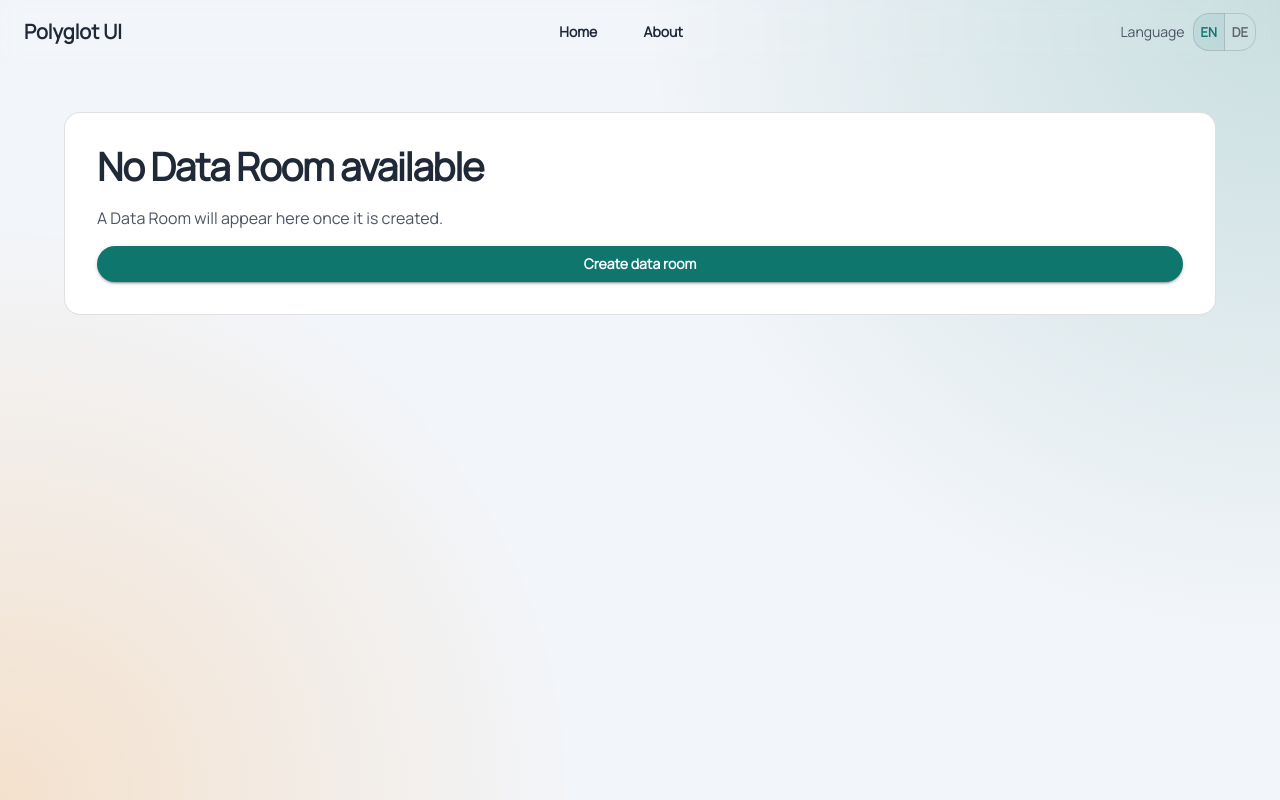
App routing and localization › creates the first data room from an empty persisted state
The width and height of the screenshot is (1280, 800).
Check: the heading "No Data Room available" is shown, box [97,140,483,193]
Check: the list "Data Rooms" is not shown
Click the button "Create data room" at (640, 264), box [97,246,1183,282]
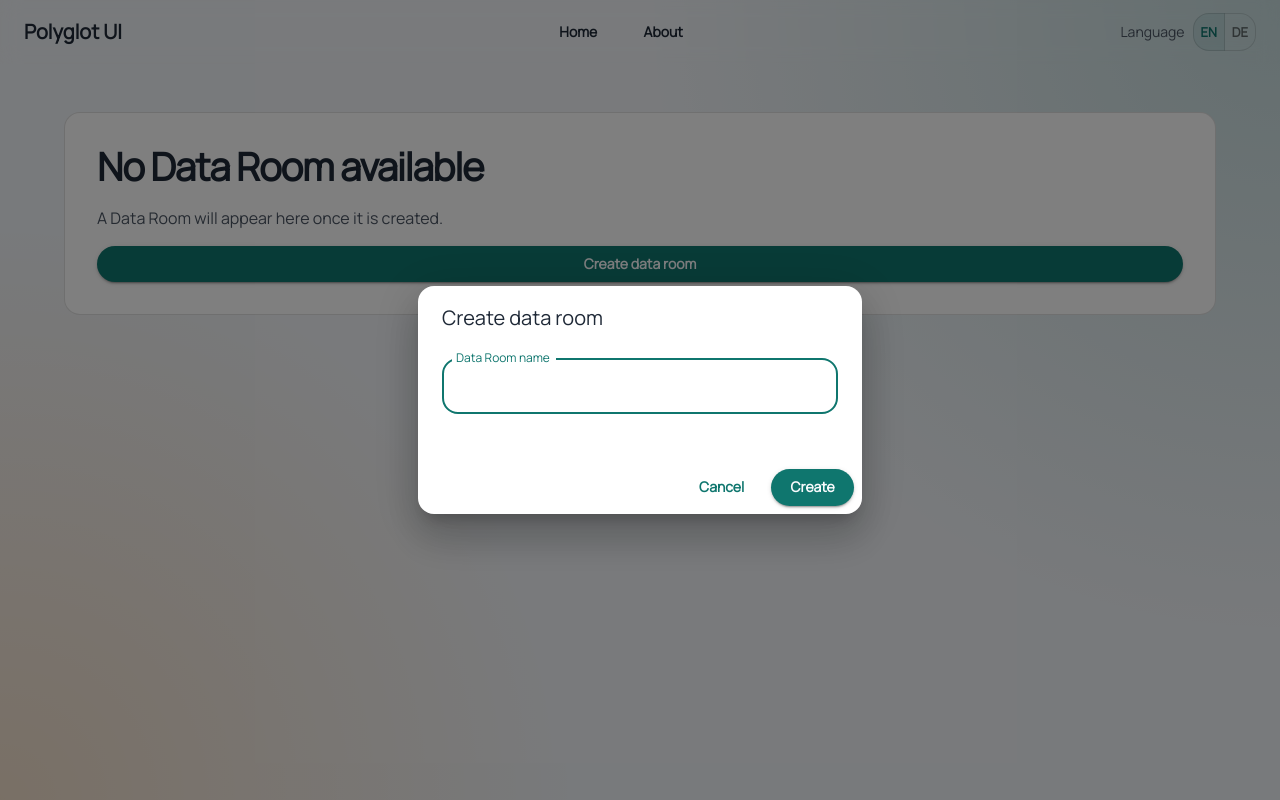
Type "Project Helios" into the field labelled "Data Room name" at (640, 386), box [442,358,838,414]
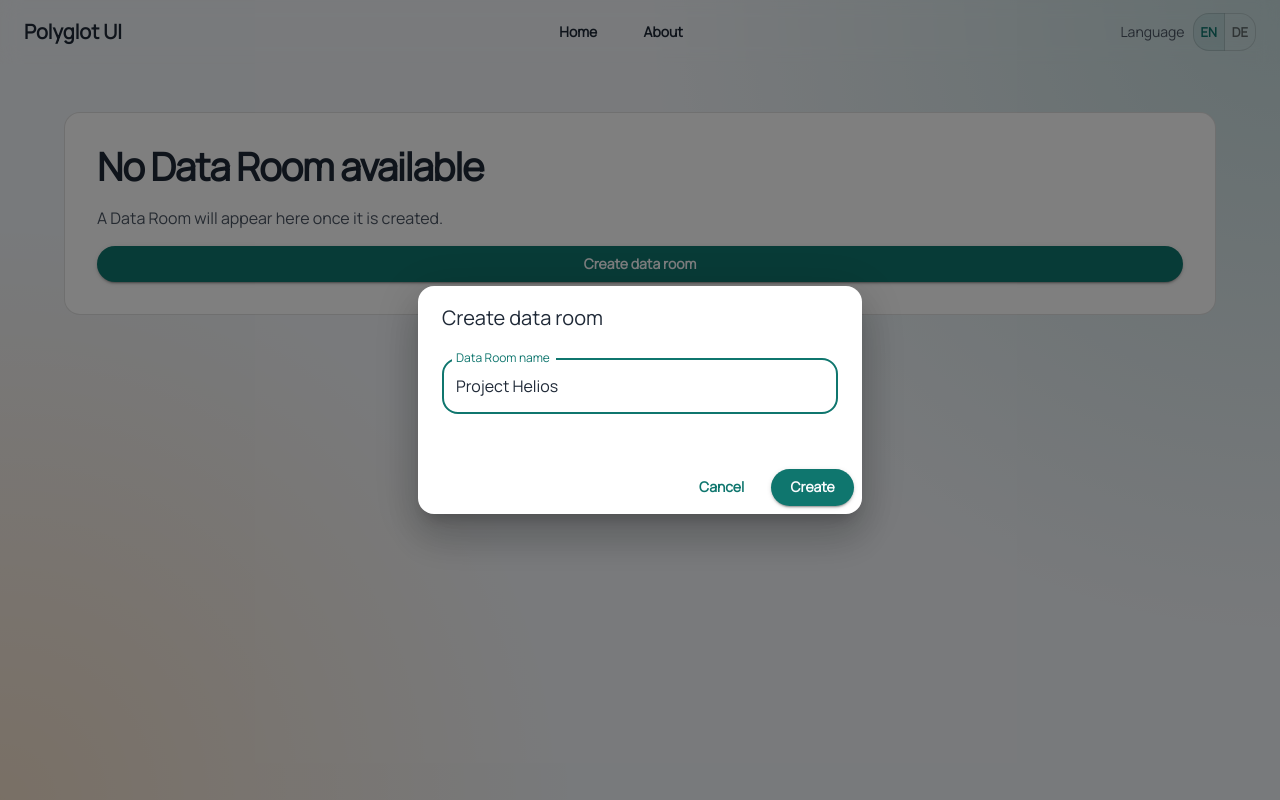
Click the button "Create" at (813, 487), box [771,469,854,506]
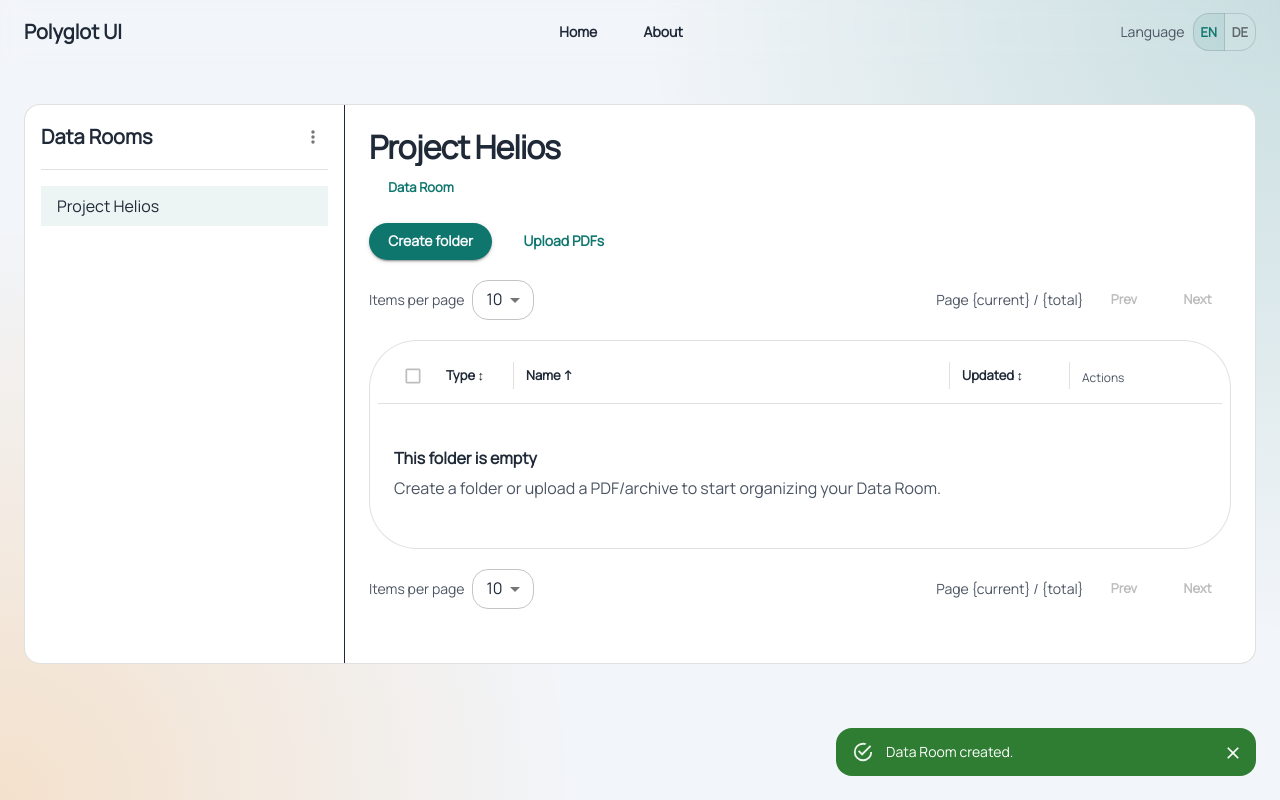
Check: the heading "Project Helios" is shown, box [369,125,560,169]
Check: the list named "Data Rooms" is shown, box [41,186,328,226]
Check: the heading "This folder is empty" is shown, box [394,447,537,469]
